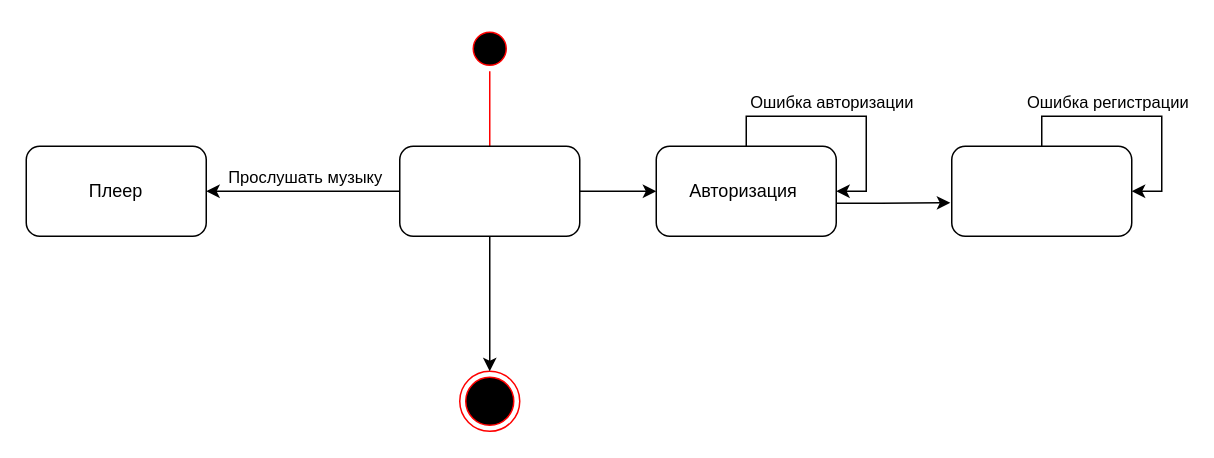
This 1214x458 diagram has some shape labels left out. The centre of each missing label's shape, as x and y in pixels:
Главная страница: the point at 489,190
Регистрация: the point at 1041,190
